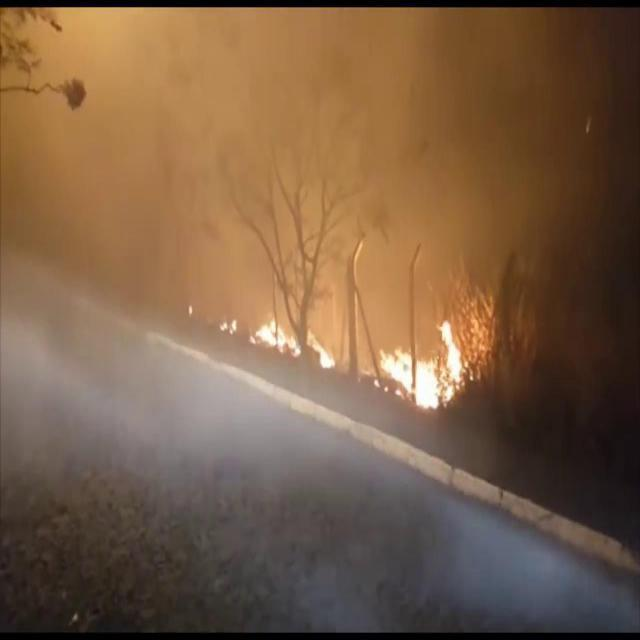Fire: (370, 318, 462, 410), (250, 316, 300, 354), (306, 329, 336, 367), (219, 316, 240, 336)
